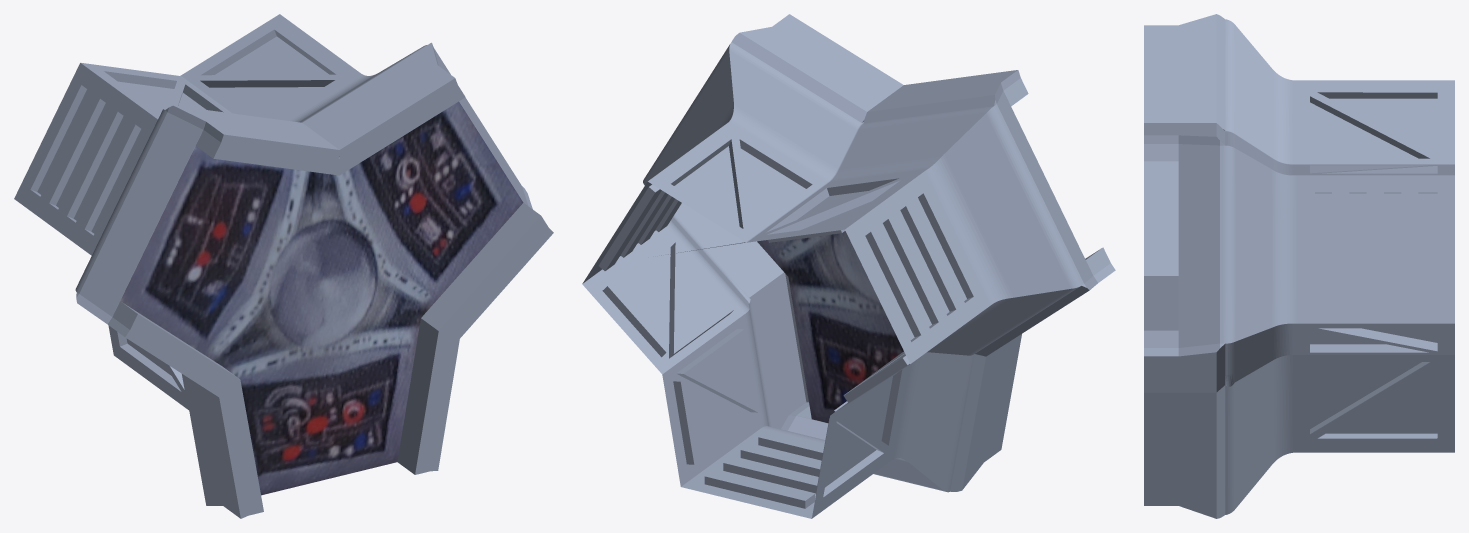
The model's file is terminal.fbx.
The picture shows the model from 3 angles, left to right: view 1: azimuth 30°, elevation 25°; view 2: azimuth 150°, elevation 25°; view 3: azimuth 270°, elevation 25°; orthographic projection. The views are drawn at different scales.
Parts seen in each view (by area): view 1: Terminal; view 2: Terminal; view 3: Terminal.
Part boxes in pixels (x1,y1,x2,y2): Terminal: (14,14,553,518); Terminal: (582,14,1115,518); Terminal: (1144,14,1454,518).
Bounding box in the file's own units: 1 × 0.8677 × 0.6131.
